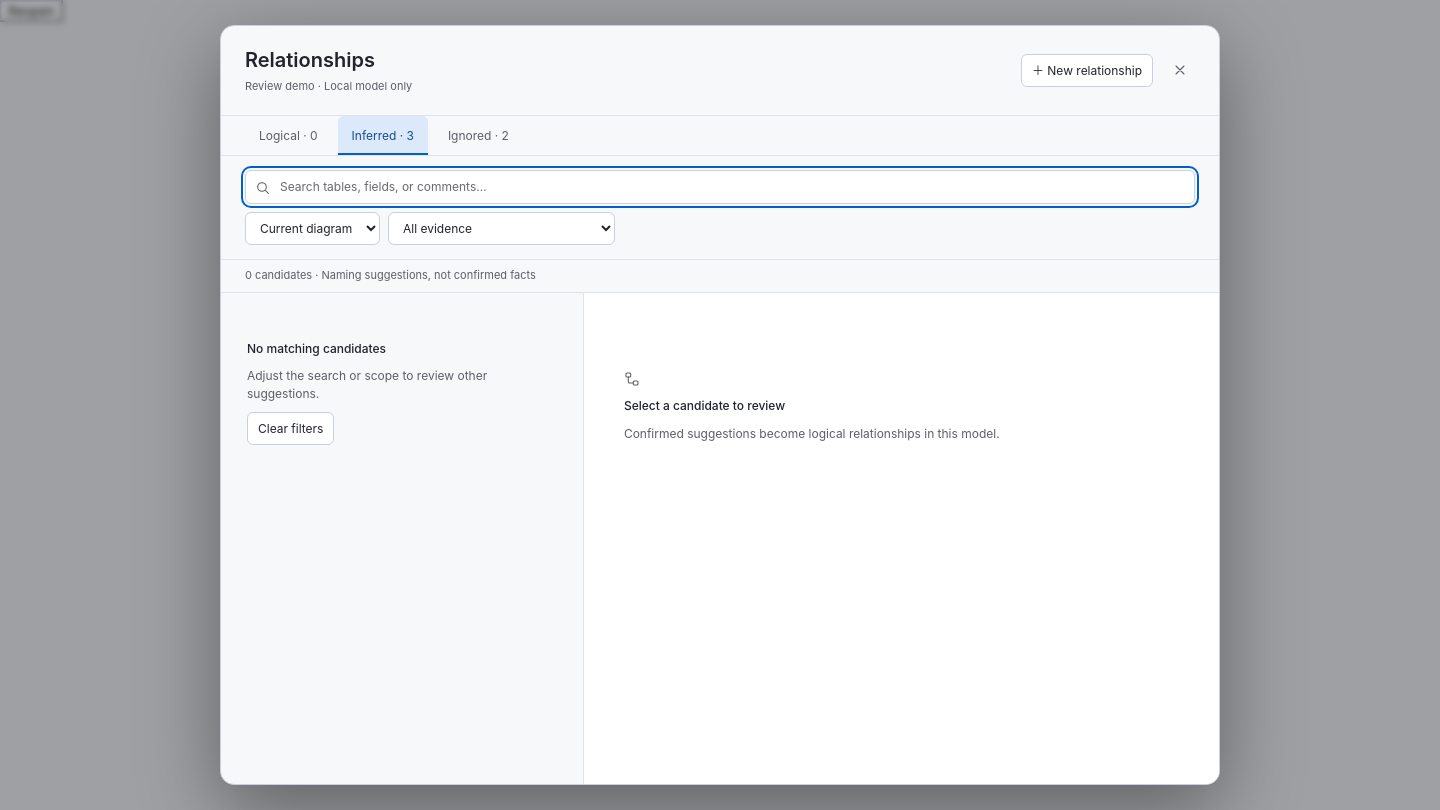
Test case: Inferred relationship review › lists and restores legacy naming rules and stale ignore entries
Expected: the button "Inferred · 3" is shown, left=338, top=116, right=428, bottom=155
Click the button "Ignored · 2".
click(478, 136)  # box left=434, top=116, right=523, bottom=155
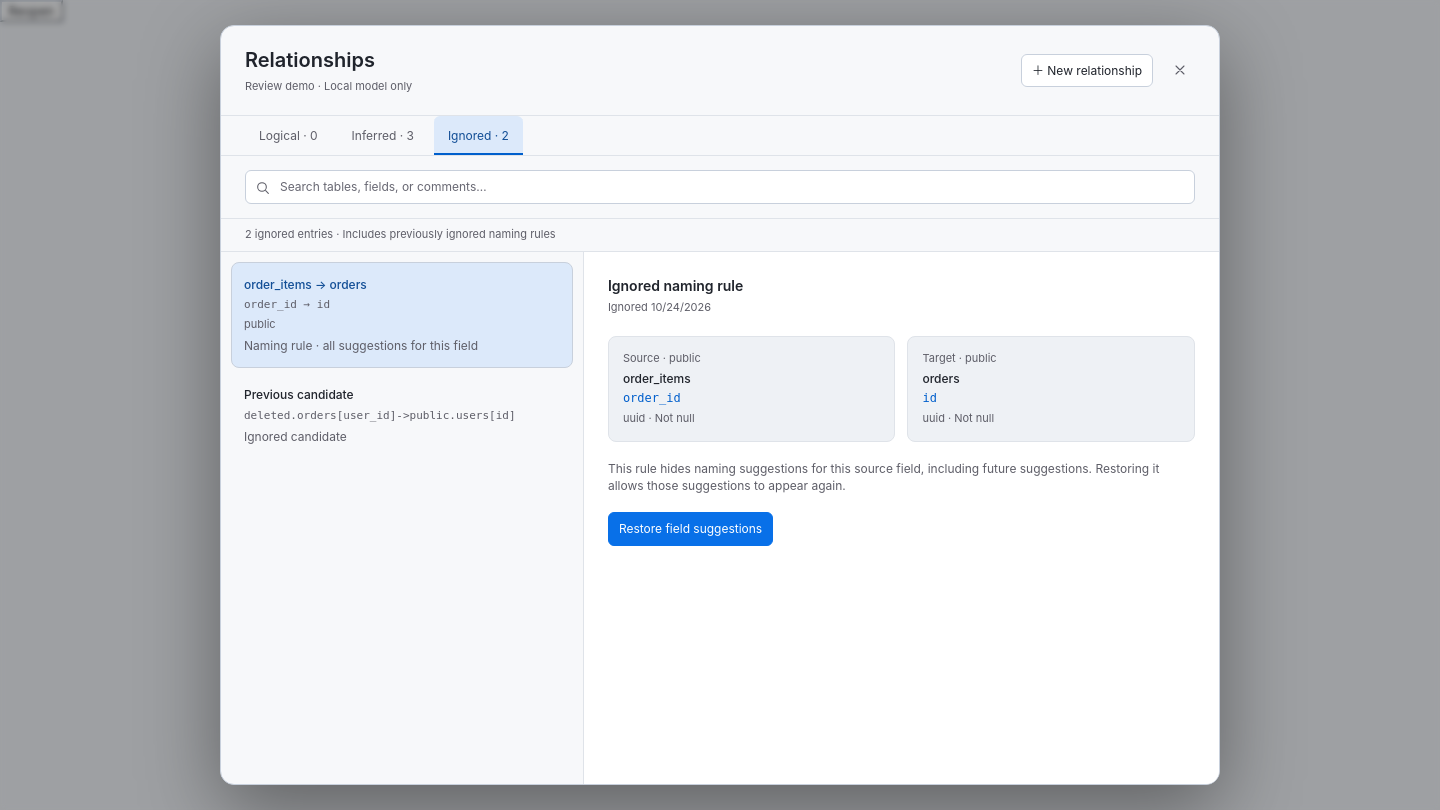
Expected: the text "including future suggestions" is shown, left=608, top=460, right=1163, bottom=493
Click the button "Restore field suggestions".
click(691, 529)  # box left=608, top=512, right=773, bottom=546
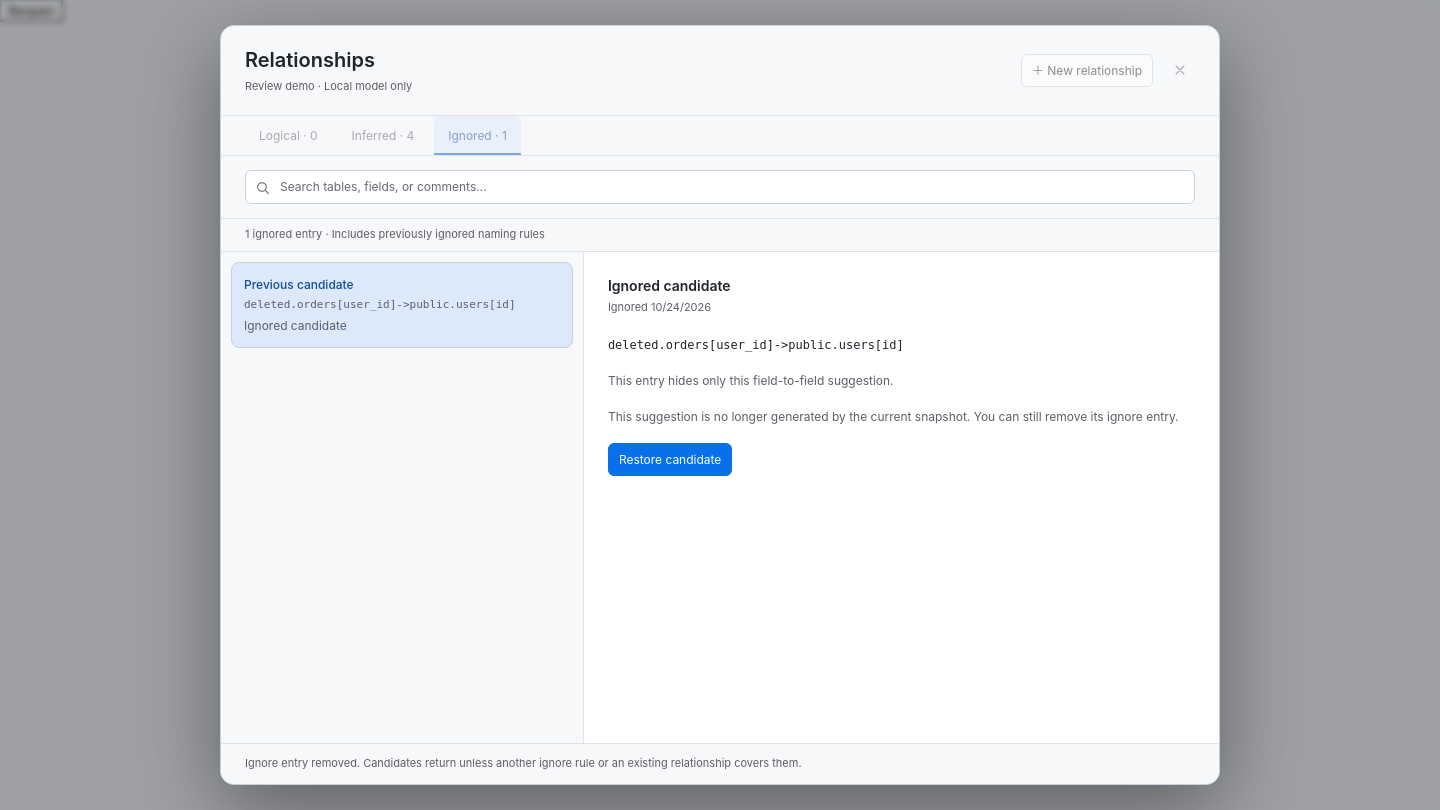
Expected: the text "no longer generated" is shown, left=608, top=409, right=1179, bottom=424
Click the button "Restore candidate".
click(670, 460)  # box left=608, top=443, right=732, bottom=476
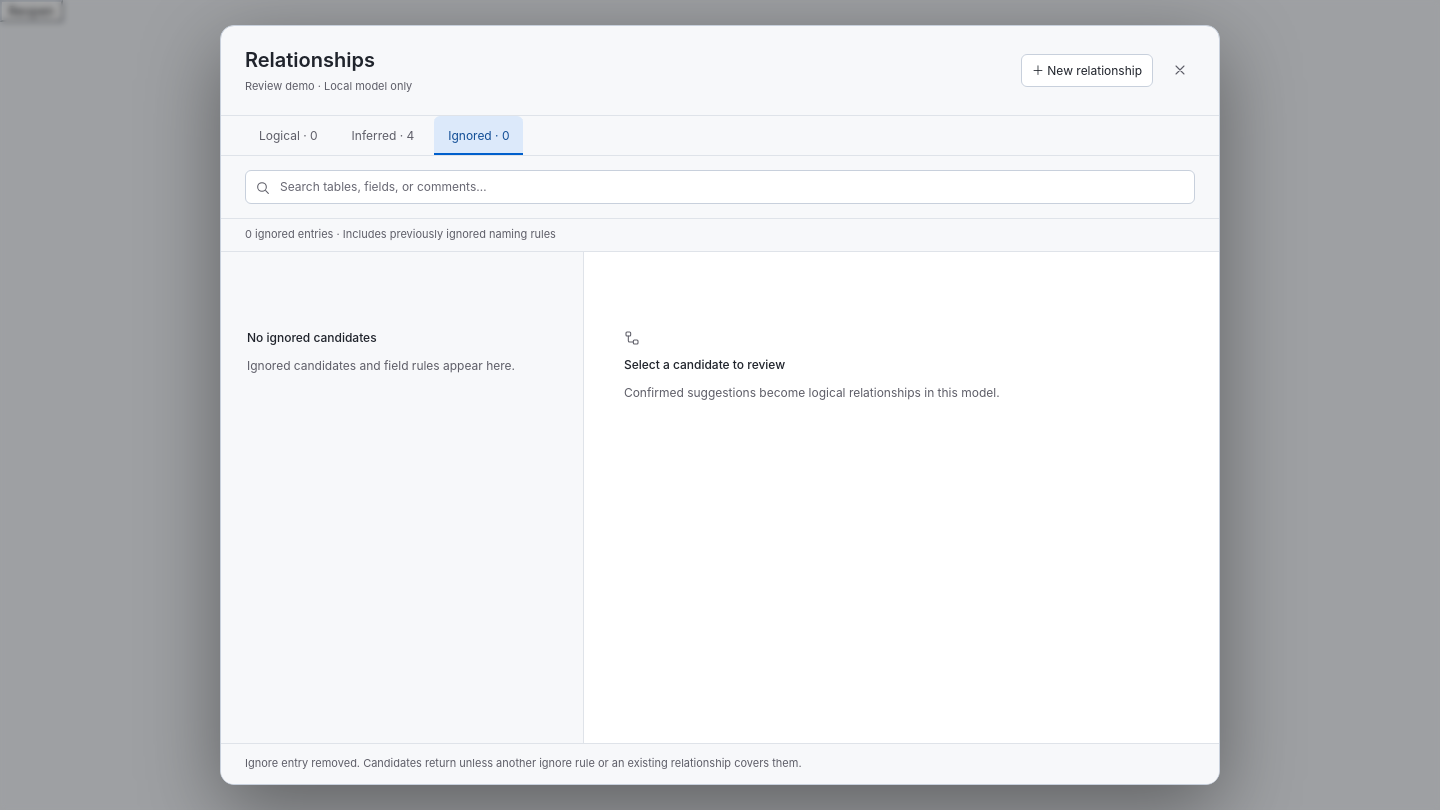
Expected: the button "Ignored · 0" is shown, left=434, top=116, right=523, bottom=155
